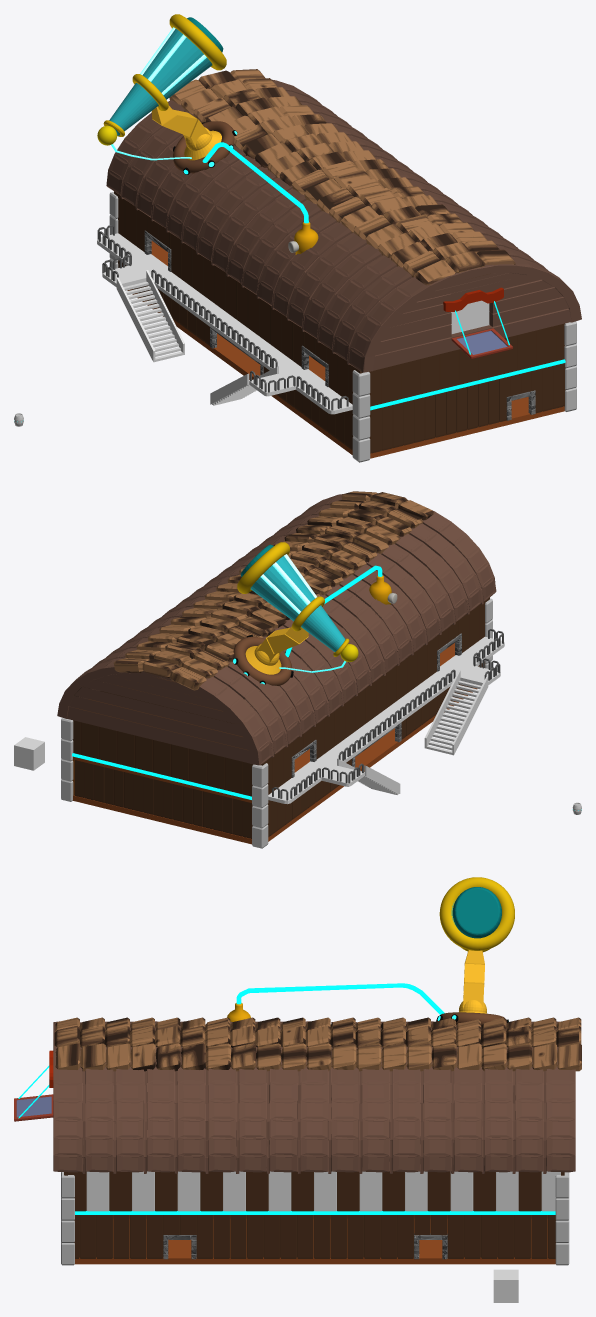
Rendered from main building final.fbx.
The picture shows the model from 3 angles, top to bottom: view 1: azimuth 30°, elevation 25°; view 2: azimuth 150°, elevation 25°; view 3: azimuth 270°, elevation 25°; orthographic projection. The views are drawn at different scales.
Parts seen in each view (by area): view 1: Cylinder, Cube.124, Cube.002, Cube.093, Cone, Cube.092, Cube, Cube.128, Cube.006, Cylinder.006, Torus, Cube.107 (+9 smaller); view 2: Cylinder, Cube.124, Cube.002, Cube.093, Cone, Cube.092, Cube, Cube.128, Cube.008, Cylinder.006, Torus, Torus.001 (+8 smaller); view 3: Cylinder, Cube.124, Cube.002, Cube.125, Cube, Cube.092, Torus, Cylinder.008, Cone, Cylinder.010, Cylinder.006, Cylinder.005 (+2 smaller).
Part boxes in pixels (x1=…): Cylinder: x1=106, y1=79, x2=581, y2=372; Cube.124: x1=114, y1=191, x2=570, y2=453; Cube.002: x1=169, y1=69, x2=515, y2=285; Cube.093: x1=97, y1=233, x2=352, y2=414; Cone: x1=109, y1=17, x2=223, y2=135; Cube.092: x1=109, y1=191, x2=576, y2=462; Cube: x1=127, y1=289, x2=564, y2=458; Cube.128: x1=97, y1=225, x2=348, y2=410; Cube.006: x1=123, y1=281, x2=183, y2=361; Cylinder.006: x1=151, y1=105, x2=221, y2=160; Torus: x1=103, y1=14, x2=226, y2=136; Cube.107: x1=144, y1=230, x2=535, y2=420; Cylinder: x1=57, y1=494, x2=496, y2=765; Cube.124: x1=73, y1=597, x2=489, y2=838; Cube.002: x1=113, y1=491, x2=434, y2=690; Cube.093: x1=268, y1=636, x2=504, y2=804; Cone: x1=241, y1=544, x2=345, y2=651; Cube.092: x1=61, y1=598, x2=492, y2=848; Cube: x1=73, y1=687, x2=477, y2=844; Cube.128: x1=272, y1=629, x2=503, y2=800; Cube.008: x1=426, y1=680, x2=481, y2=754; Cylinder.006: x1=245, y1=626, x2=308, y2=674; Torus: x1=237, y1=542, x2=349, y2=656; Torus.001: x1=233, y1=636, x2=292, y2=685; Cylinder: x1=53, y1=1021, x2=575, y2=1173; Cube.124: x1=64, y1=1171, x2=564, y2=1258; Cube.002: x1=54, y1=1017, x2=581, y2=1071; Cube.125: x1=86, y1=1171, x2=560, y2=1211; Cube: x1=75, y1=1219, x2=555, y2=1264; Cube.092: x1=61, y1=1172, x2=569, y2=1265; Torus: x1=439, y1=877, x2=514, y2=952; Cylinder.008: x1=18, y1=1065, x2=555, y2=1214; Cone: x1=451, y1=887, x2=501, y2=938; Cylinder.010: x1=227, y1=983, x2=444, y2=1021; Cylinder.006: x1=459, y1=950, x2=486, y2=1013; Cylinder.005: x1=14, y1=1094, x2=53, y2=1121.
Bounding box in the file's own units: 4810 × 2588 × 4530.
